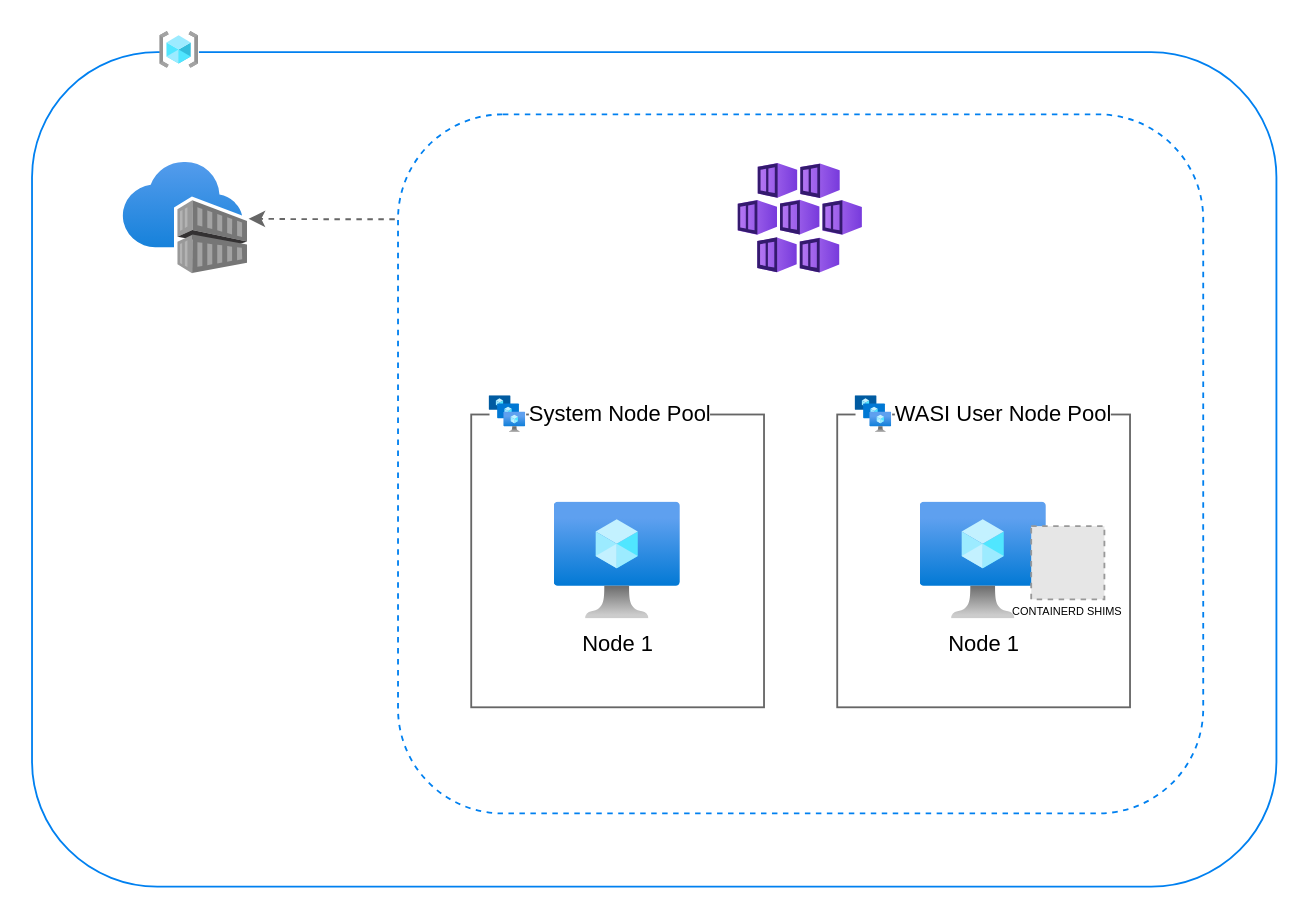
This 1308x919 diagram has some shape labels left out. Grey dashed boxes stand in for pictures. Each missing label, with the centre of its shape:
"Azure Container Registry" goes at point (185, 218).
"Azure Kubernetes Services" goes at point (799, 218).
"Resource Group" goes at point (178, 49).
